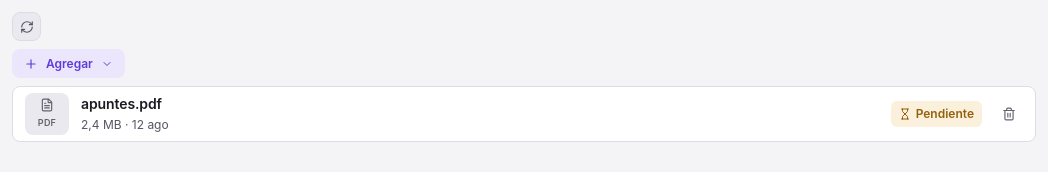
Test case: AdjuntosContainer › shows the "Archivo no encontrado" row state on ATTACHMENT_FILE_MISSING, and the row stays in the list
Expected: the text "apuntes.pdf" is shown, x1=81 y1=95 x2=162 y2=112
Click the button named "Abrir ". click: (524, 114)
box: x1=13 y1=87 x2=1035 y2=140
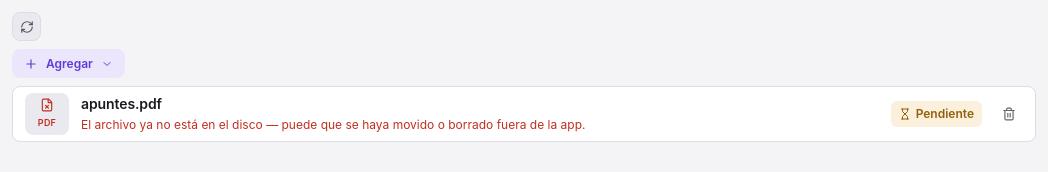
Expected: the text "apuntes.pdf" is shown, x1=81 y1=95 x2=162 y2=112
Expected: the text "El archivo ya no está en el disco — puede que se haya movido o borrado fuera de la app." is shown, x1=81 y1=117 x2=586 y2=132
